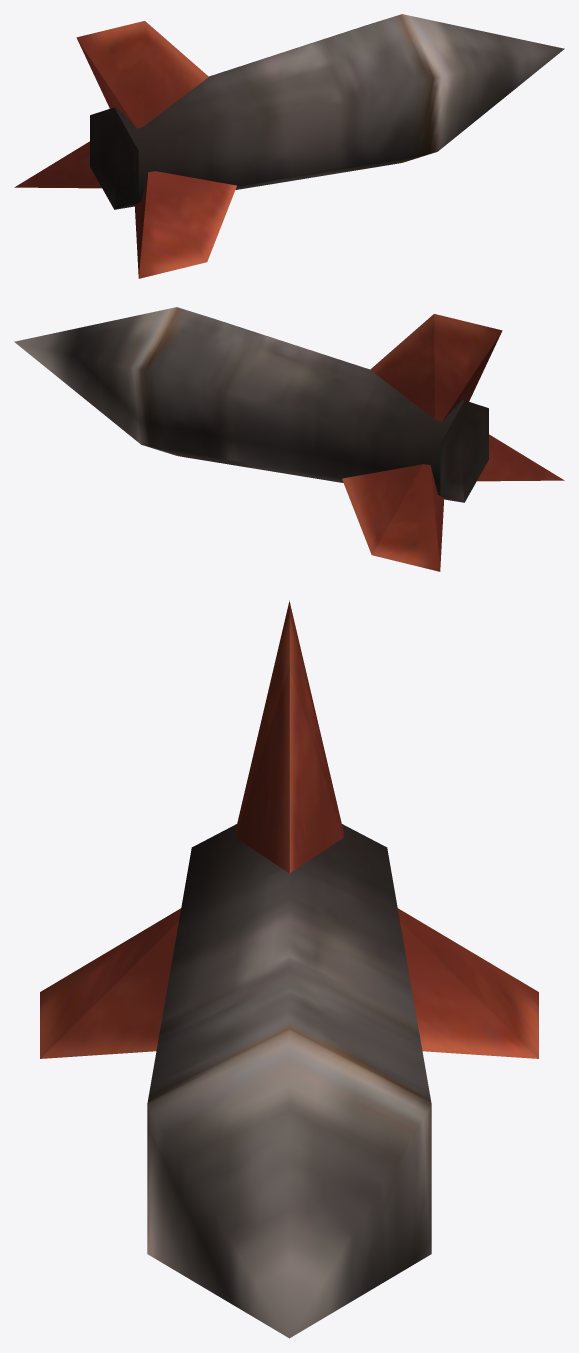
File: Rocket.fbx
The picture shows the model from 3 angles, top to bottom: view 1: azimuth 30°, elevation 25°; view 2: azimuth 150°, elevation 25°; view 3: azimuth 270°, elevation 25°; orthographic projection. The views are drawn at different scales.
Visible parts, largest first — view 1: Rocket_geom; view 2: Rocket_geom; view 3: Rocket_geom.
Part boxes in pixels (x1,y1,x2,y2): Rocket_geom: (14,14,564,278); Rocket_geom: (14,307,564,571); Rocket_geom: (40,600,538,1338).
Bounding box in the file's own units: 234 × 93.69 × 103.
1 material, 1 textured.
